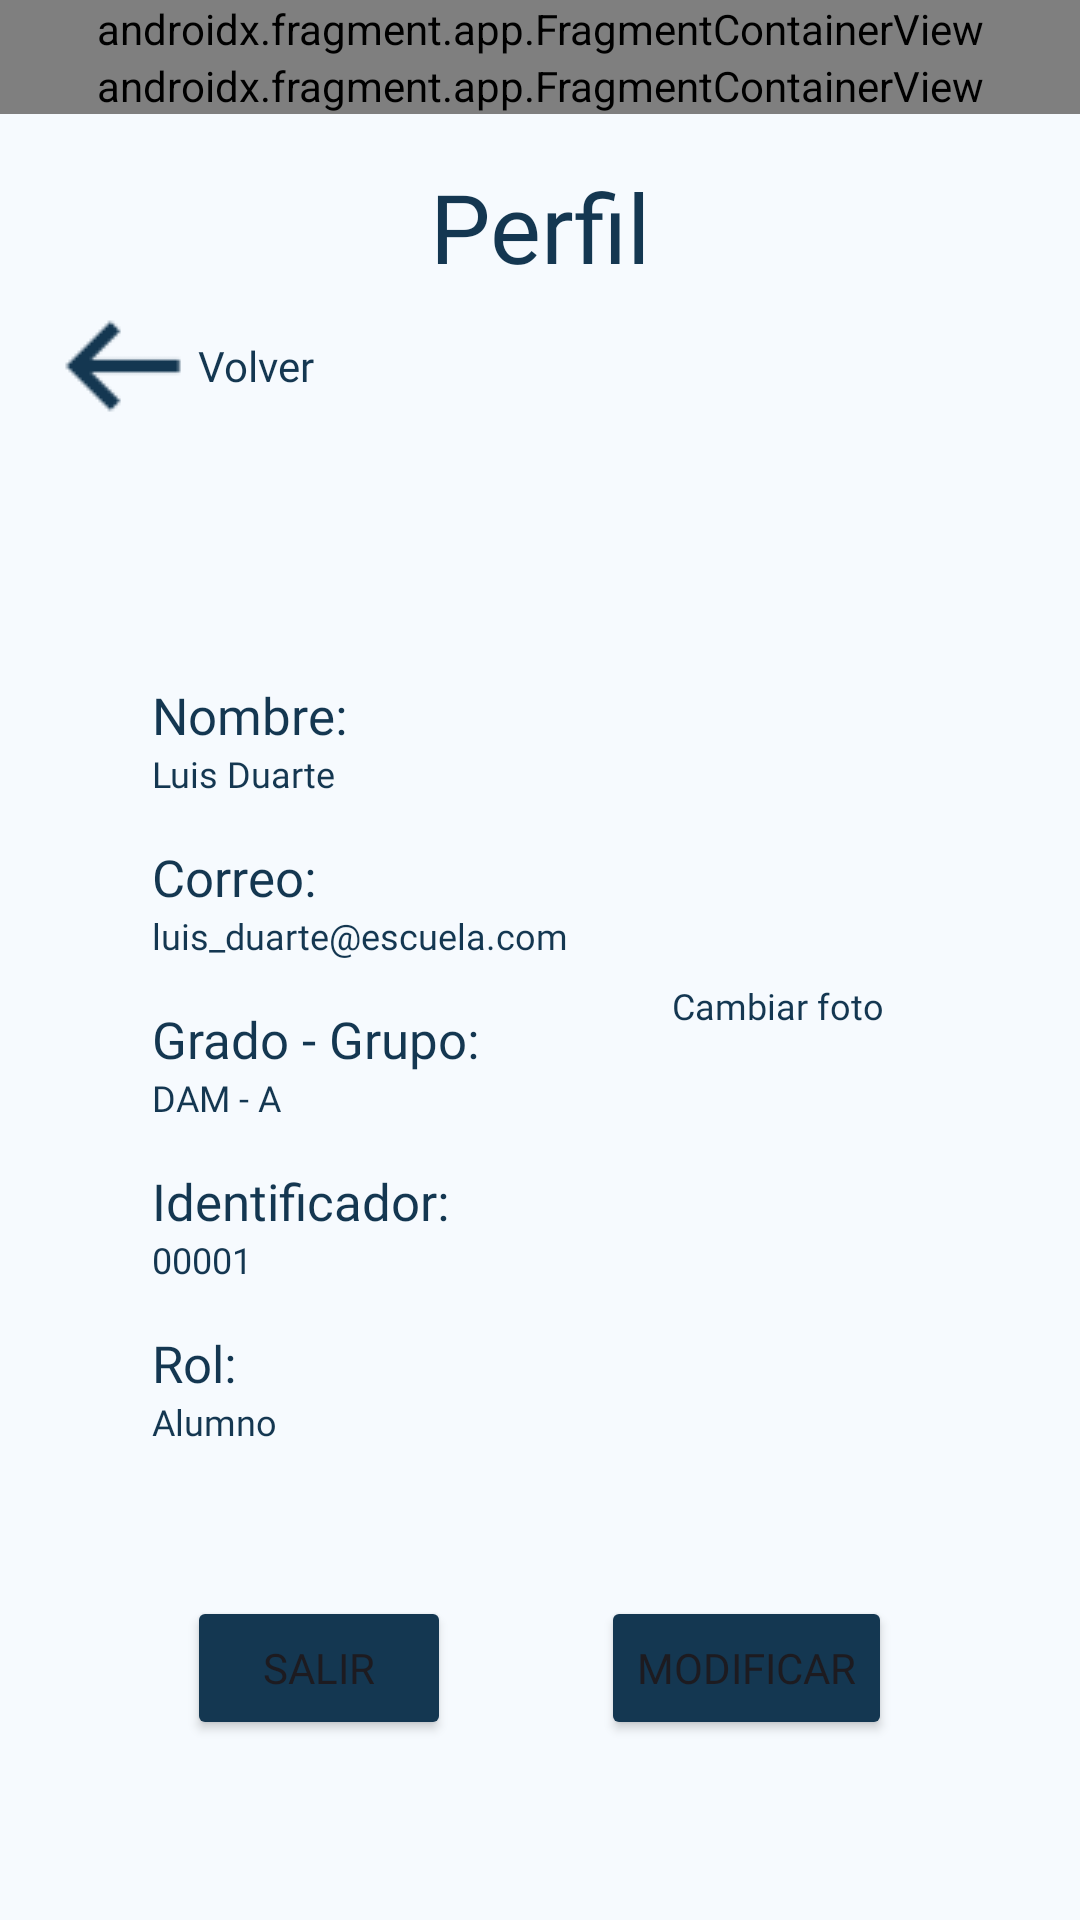

Screen size 1080 × 1920. Icon name, then its center in pixels as (x,y):
iconarrowleft: (123,366)
